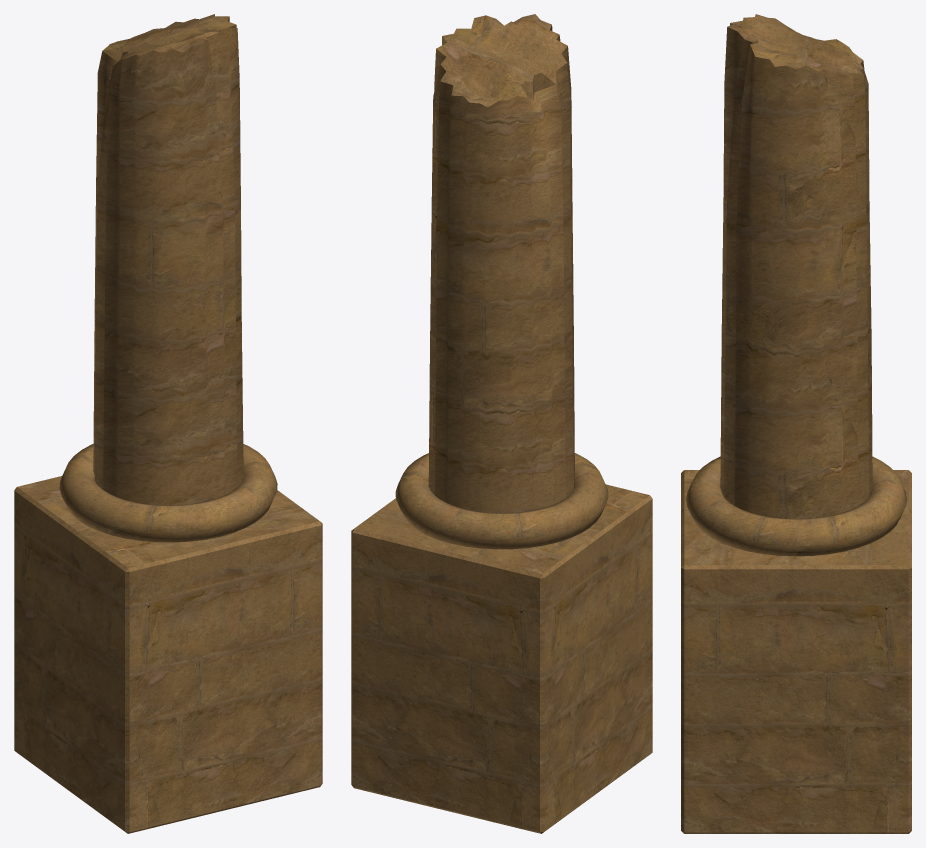
File: column_broken.glb
3 views of the same model, side by side, from view 1: azimuth 30°, elevation 25°; view 2: azimuth 150°, elevation 25°; view 3: azimuth 270°, elevation 25° (orthographic). The views are drawn at different scales.
Visible parts, largest first — view 1: column_broken; view 2: column_broken; view 3: column_broken.
Part boxes in pixels (x1=…): column_broken: x1=14, y1=14, x2=322, y2=833; column_broken: x1=351, y1=14, x2=652, y2=833; column_broken: x1=681, y1=14, x2=911, y2=833.
Size of the model in its own units: 1.4 by 5.08 by 1.4.
Materials: 1 (1 with a texture image).
